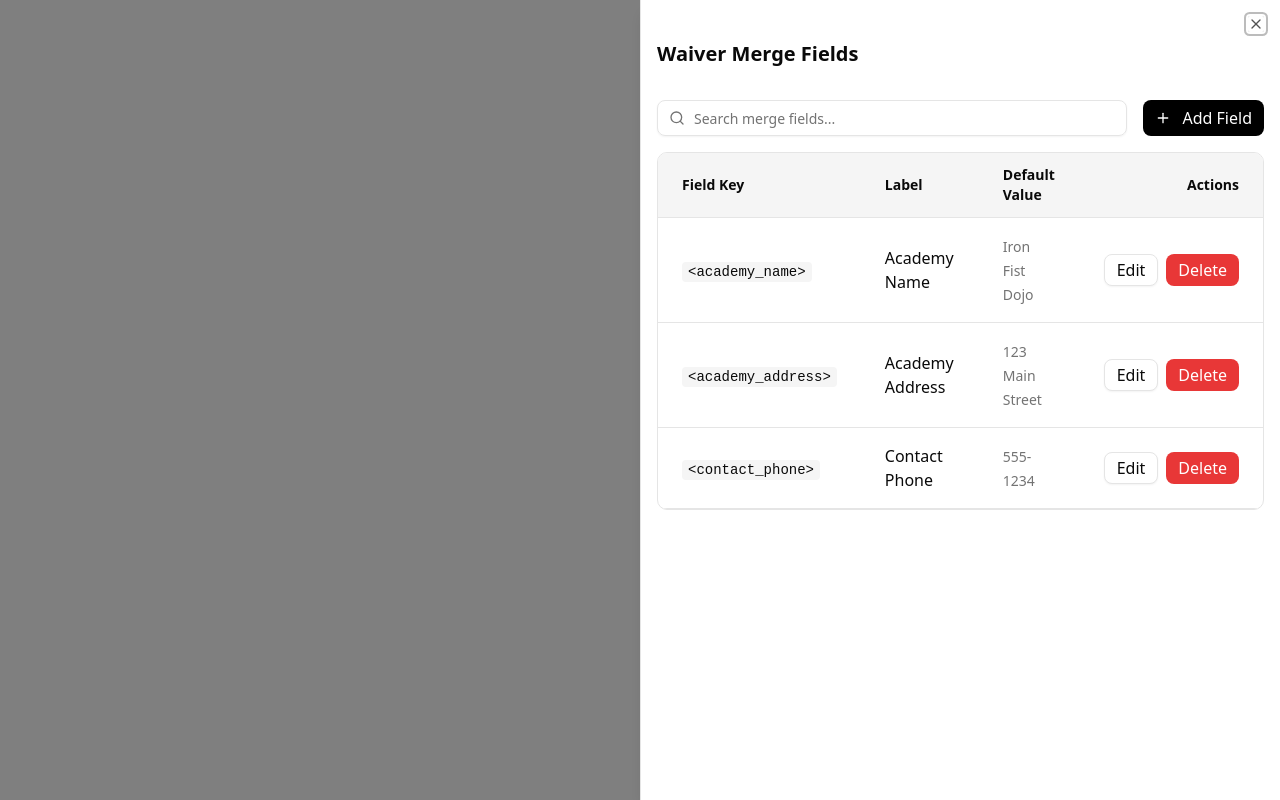
Test: MergeFieldsManagement › Search Functionality › should show all fields when search is cleared
Check: the text "Academy Name" is shown, box [885,247,954,293]
Type "contact_phone" into the field with placeholder "Search merge fields...". click: (892, 118)
box: [657,100,1126,136]
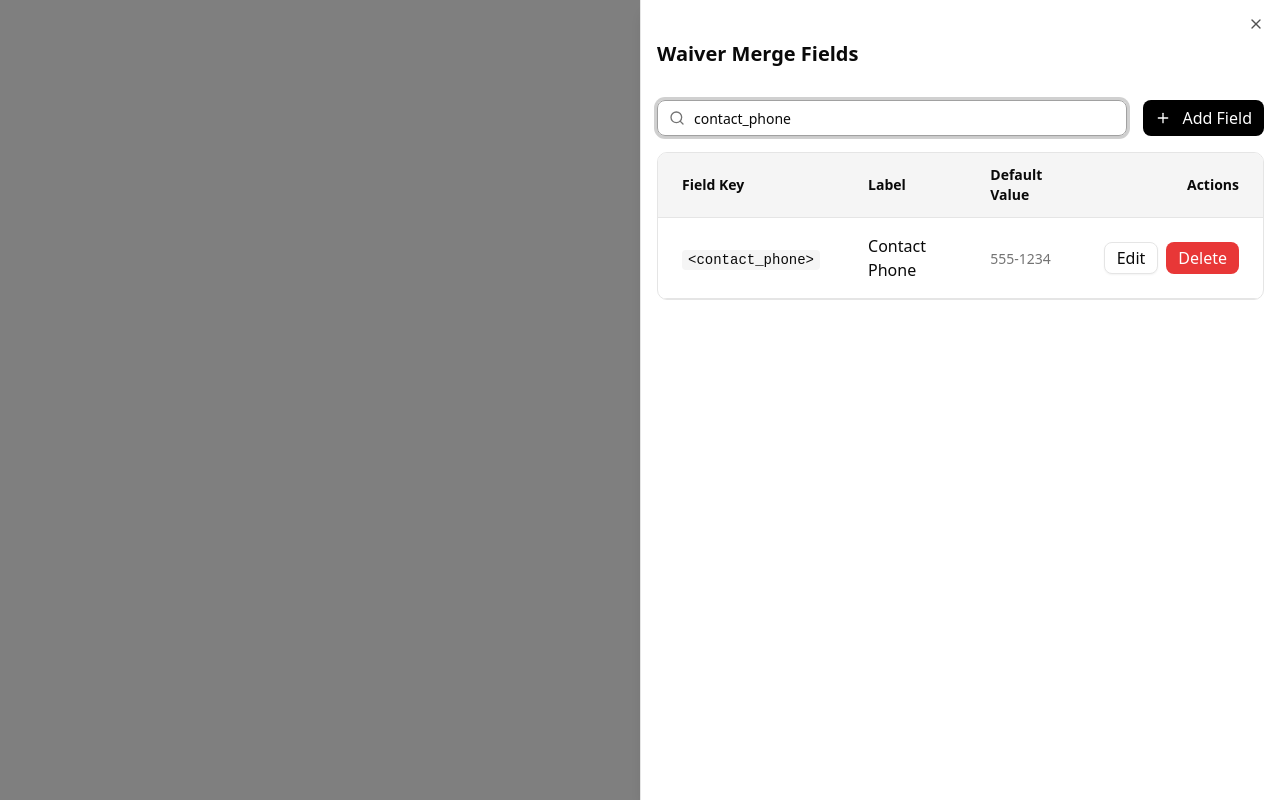
Clear the search
Clear the field named "Search merge fields...". click: (892, 118)
box: [657,100,1126,136]
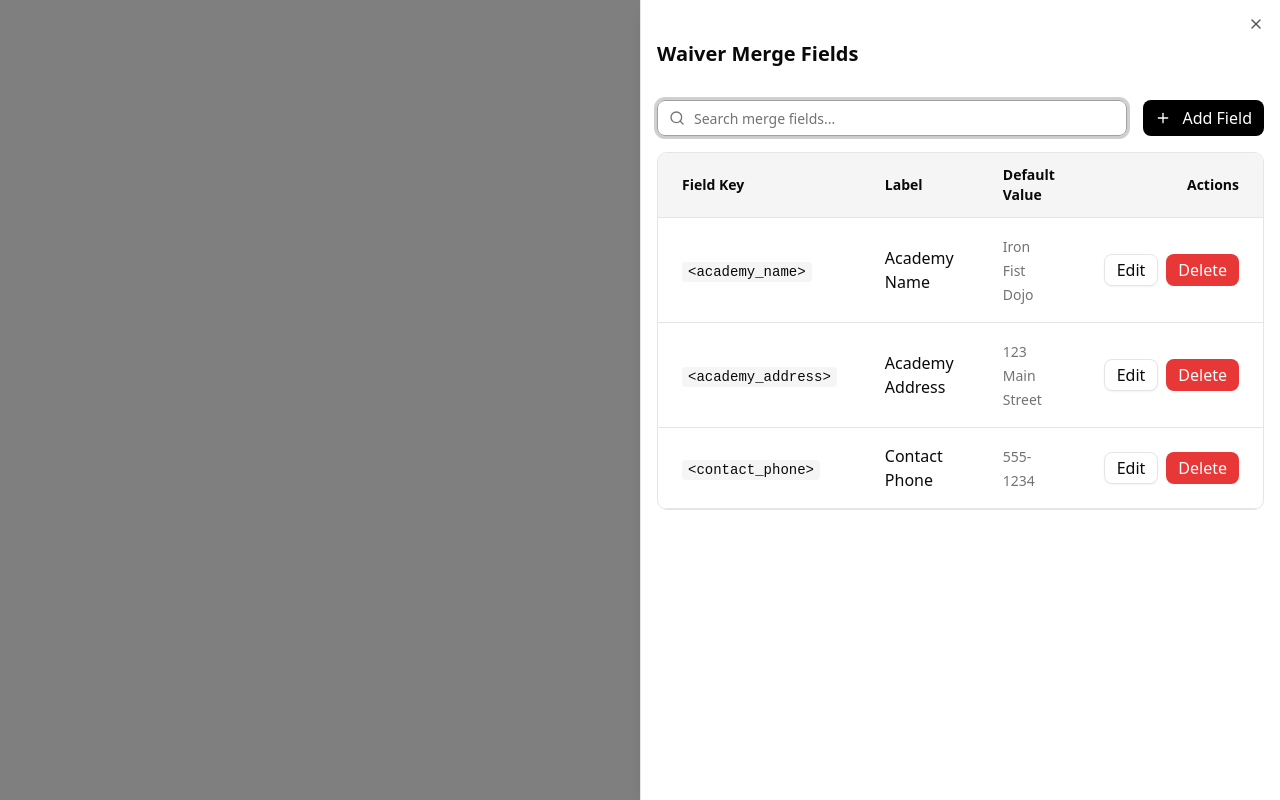
Check: the text "Contact Phone" is shown, box [885,445,943,491]
Check: the text "Academy Name" is shown, box [885,247,954,293]
